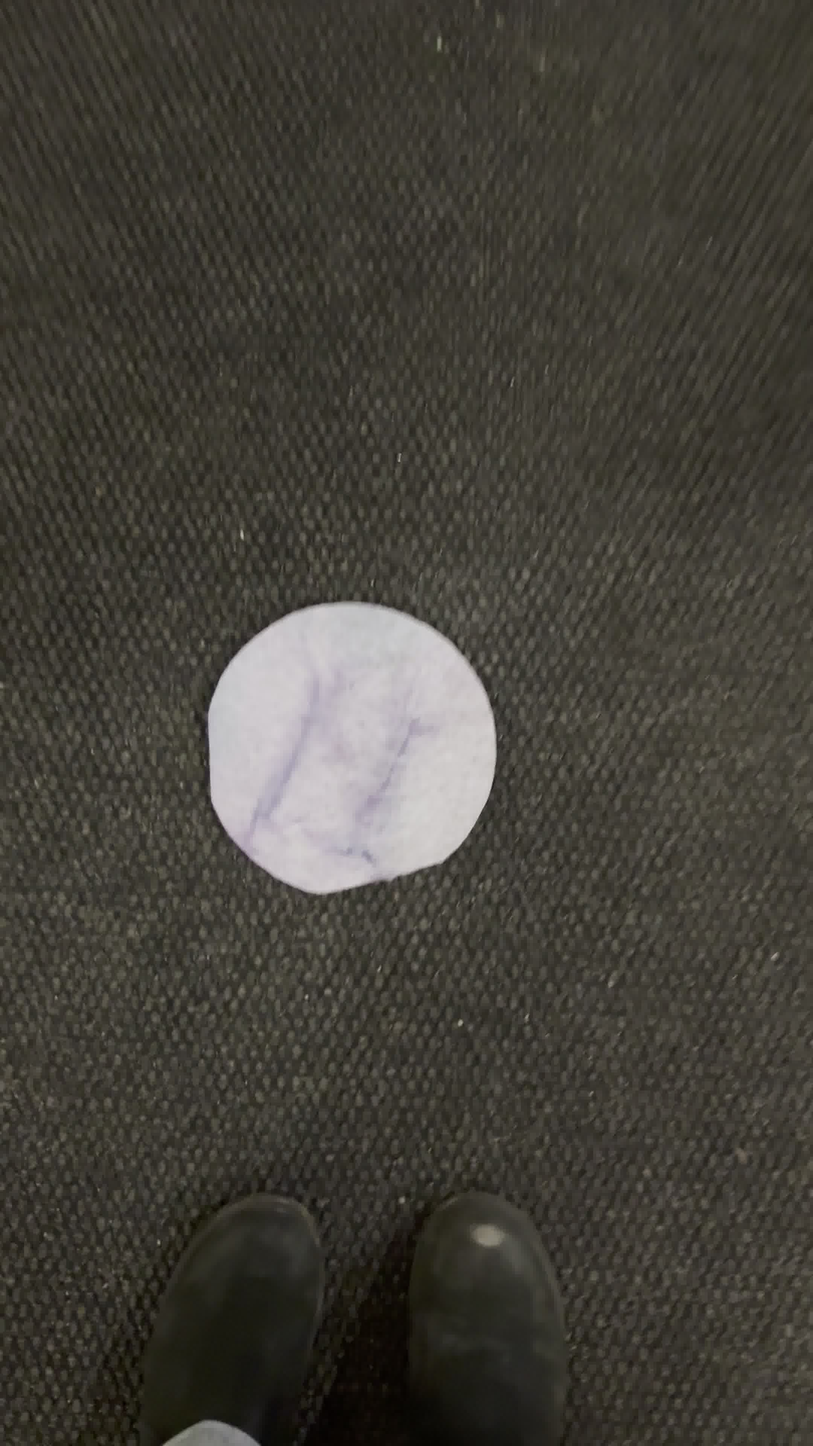Target: (201, 597, 500, 900)
